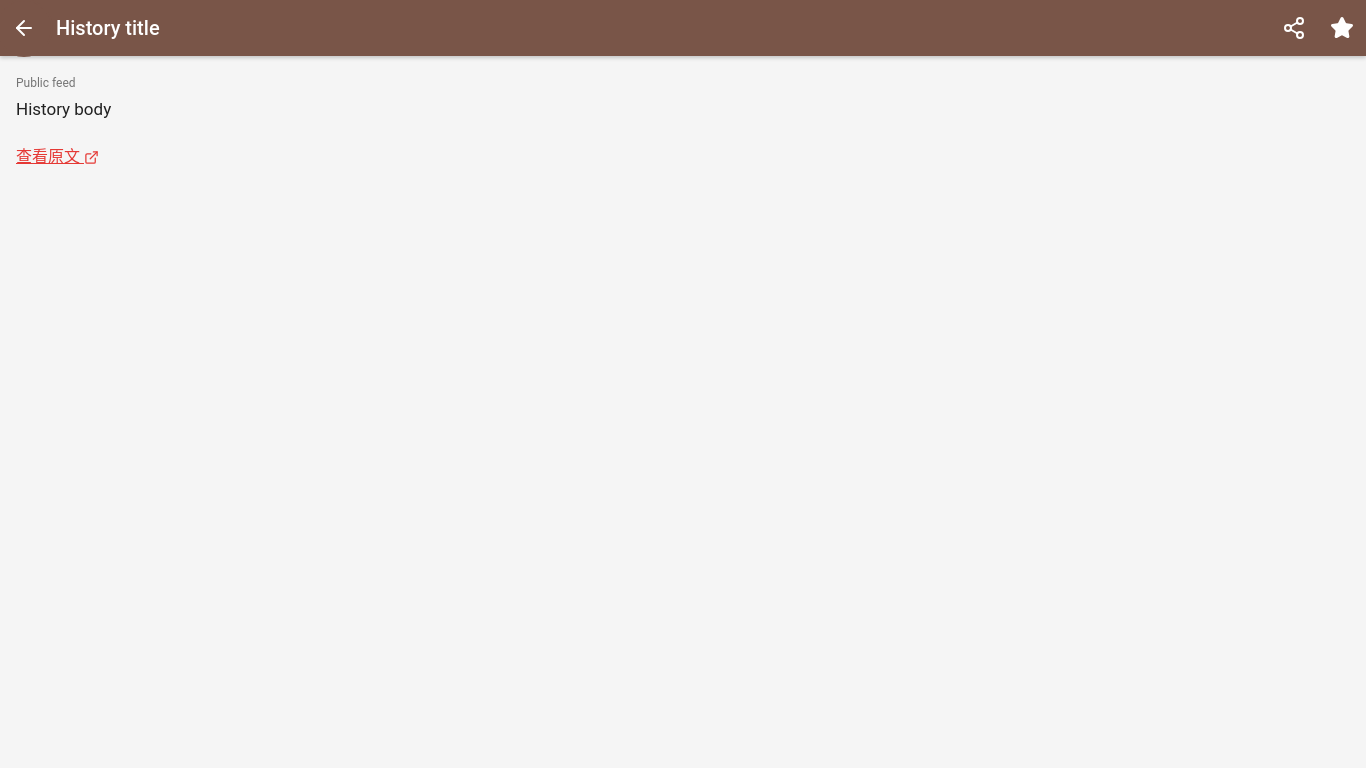
Scenario: shares distinct history and favorite snapshots without modifying their titles, times, library or own backups
Later steps or results of the test are not shown.
Expected: the button named "编辑收藏" is enabled, [1318, 4, 1365, 52]
Click the button named "分享文章链接".
click(1294, 28)  # box [1270, 4, 1318, 52]
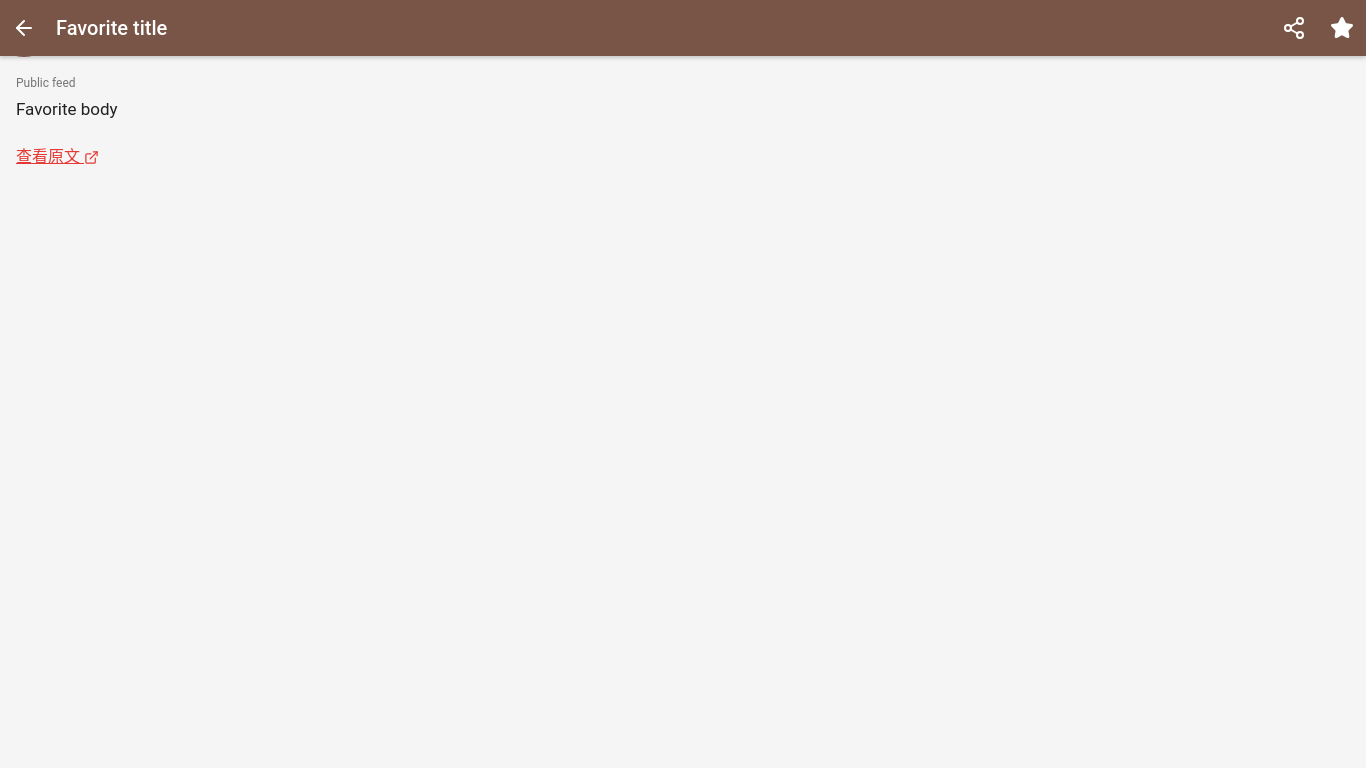
Expected: the button named "编辑收藏" is enabled, [1318, 4, 1365, 52]
Expected: the dialog has attribute aria-label="Favorite title"
